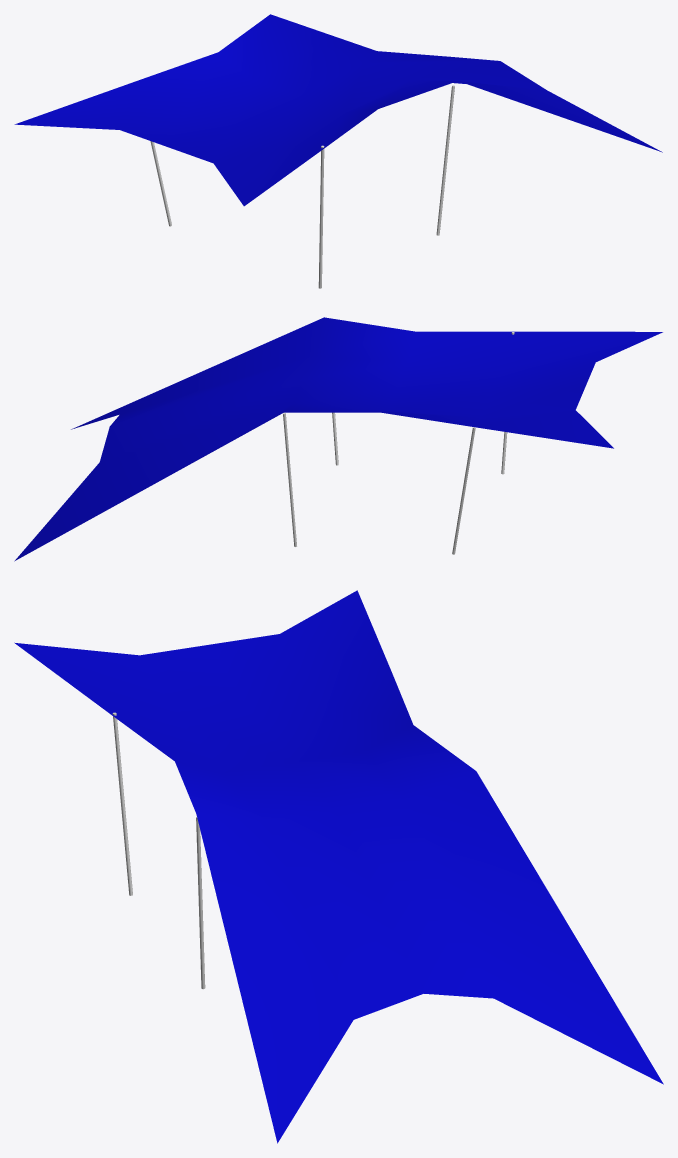
The model's file is Roof-Tent-Blue_2.fbx.
3 views of the same model, one above another, from view 1: azimuth 30°, elevation 25°; view 2: azimuth 150°, elevation 25°; view 3: azimuth 270°, elevation 25° (orthographic). The views are drawn at different scales.
Visible parts, largest first — view 1: Zeltplane, Zeltpfosten, Zeltpfosten_2; view 2: Zeltplane, Zeltpfosten_1, Zeltpfosten_3; view 3: Zeltplane, Zeltpfosten_2.
Boxes of the visible parts, <box> form: Zeltplane: <box>14,14,662,206</box>; Zeltpfosten: <box>436,85,454,235</box>; Zeltpfosten_2: <box>318,145,324,288</box>; Zeltplane: <box>14,317,662,561</box>; Zeltpfosten_1: <box>283,412,296,546</box>; Zeltpfosten_3: <box>452,427,475,554</box>; Zeltplane: <box>14,590,663,1143</box>; Zeltpfosten_2: <box>112,712,132,895</box>.
Size of the model in its own units: 871 by 210 by 655.
